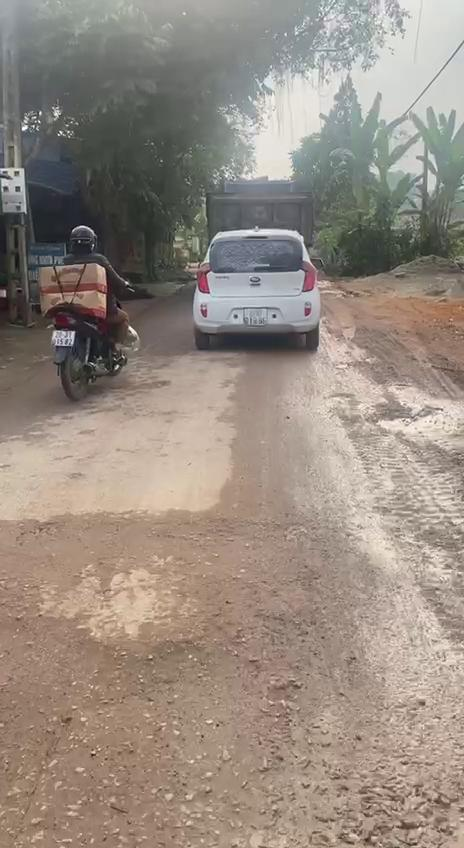pothole: (0, 610, 124, 848)
